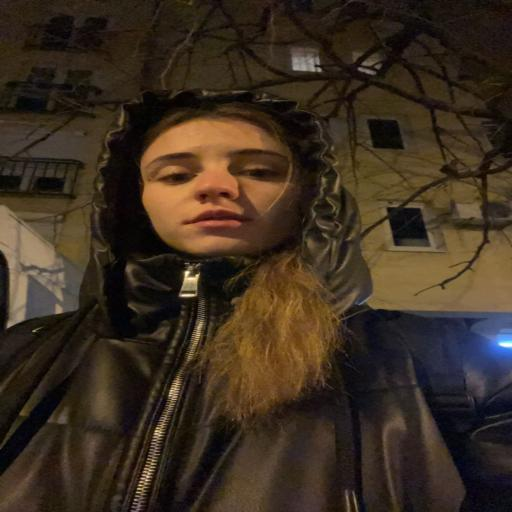masa: (133, 122, 323, 254)
